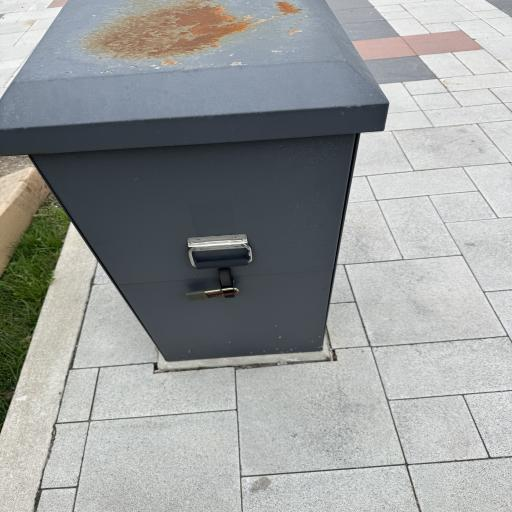Electrical Box: (0, 0, 391, 362)
